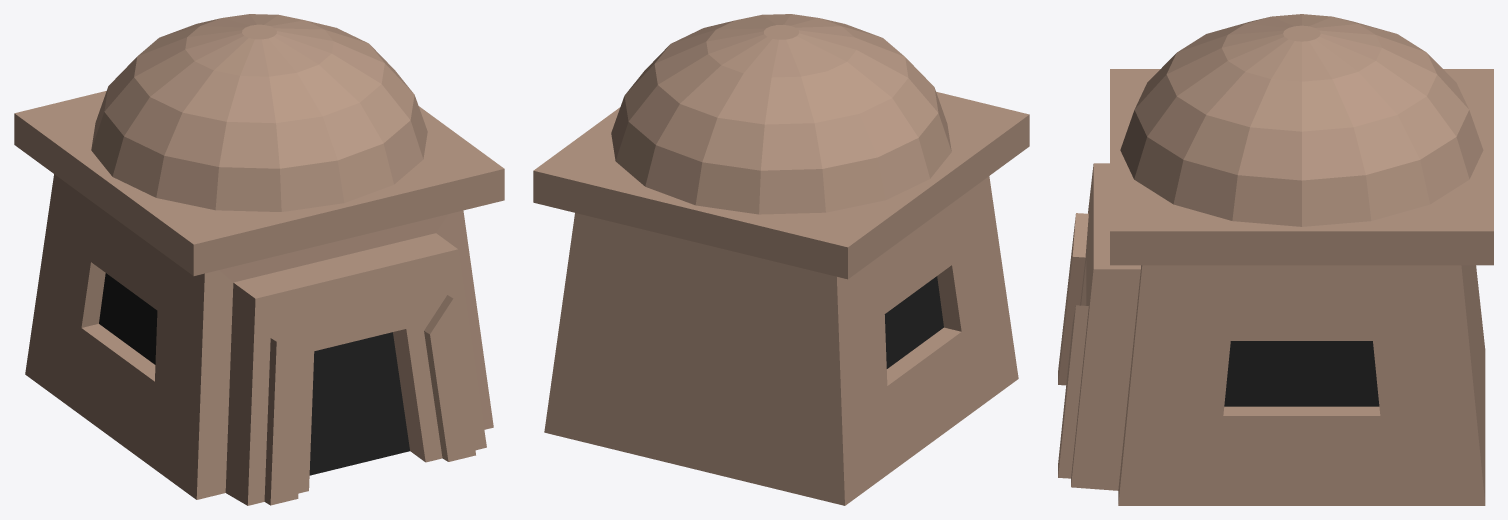
File: house_3.fbx
The picture shows the model from 3 angles, left to right: view 1: azimuth 30°, elevation 25°; view 2: azimuth 150°, elevation 25°; view 3: azimuth 270°, elevation 25°; orthographic projection. The views are drawn at different scales.
Visible parts, largest first — view 1: Cube.003; view 2: Cube.003; view 3: Cube.003.
Part boxes in pixels (box(x1,y1,x2,y2)): Cube.003: box(14, 14, 504, 505); Cube.003: box(533, 14, 1029, 505); Cube.003: box(1058, 14, 1493, 505).
Bounding box in the file's own units: 868 × 985 × 985.
